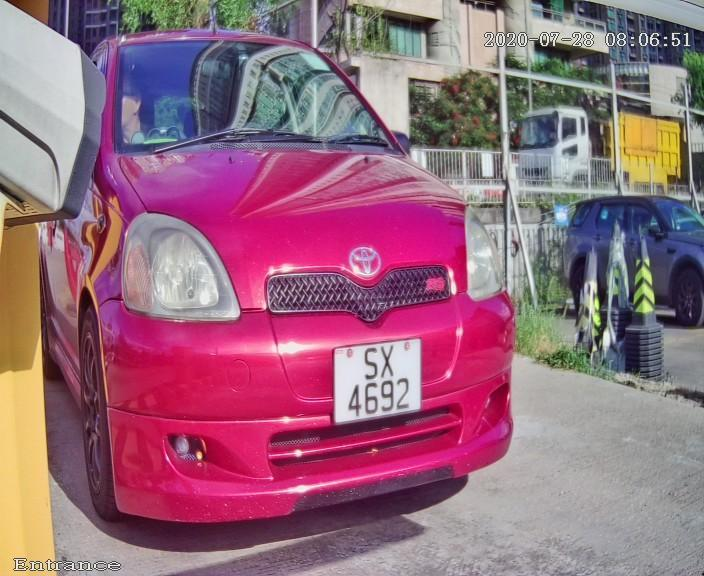privatecar: (38, 6, 544, 569)
